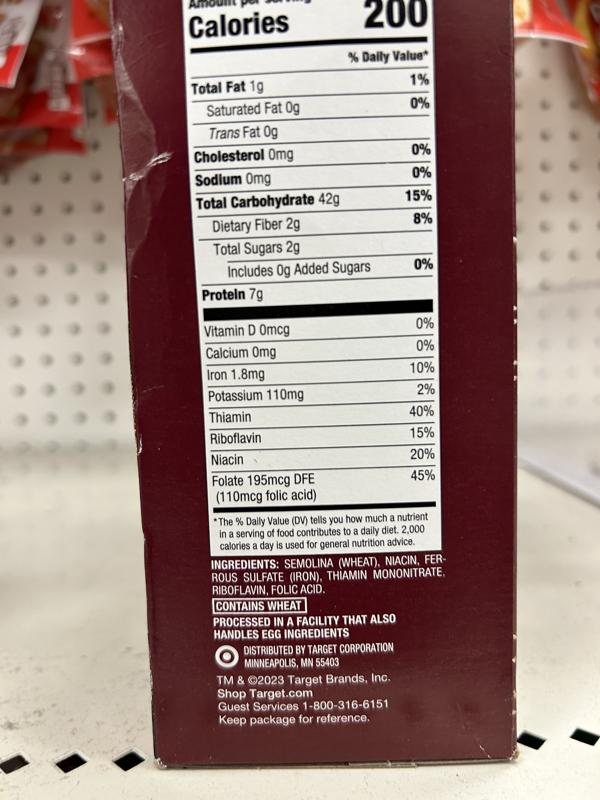ingredients: (210, 553, 447, 597)
